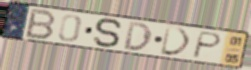0: (57, 14, 84, 43)
B: (23, 8, 58, 41)
D: (159, 24, 193, 57), (123, 20, 154, 52)
P: (190, 30, 224, 60)
S: (92, 17, 124, 50)
